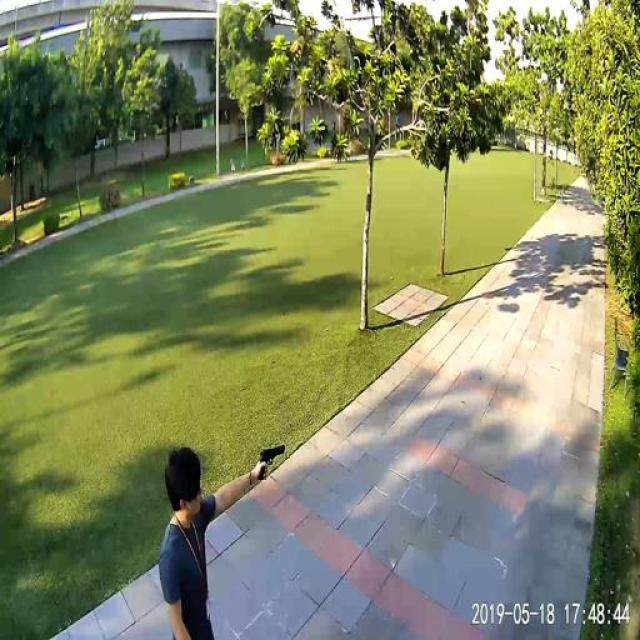senjata_api: (257, 440, 289, 464)
